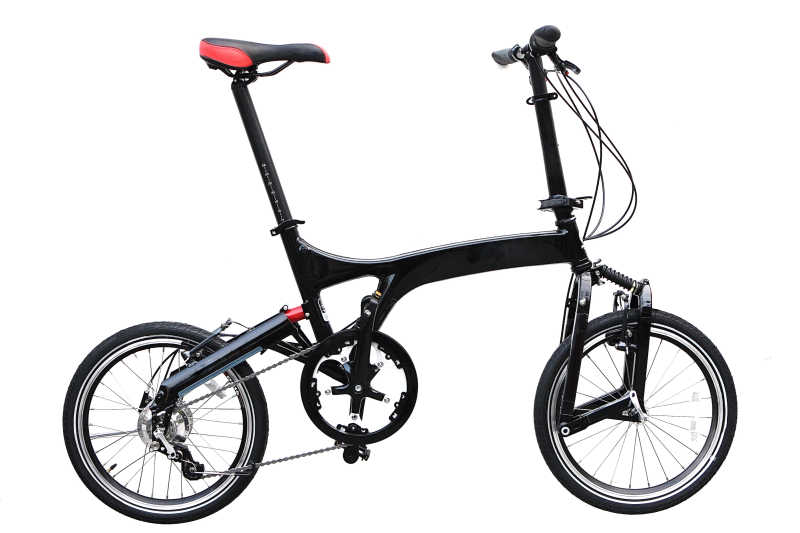MNV: (64, 30, 739, 516)
